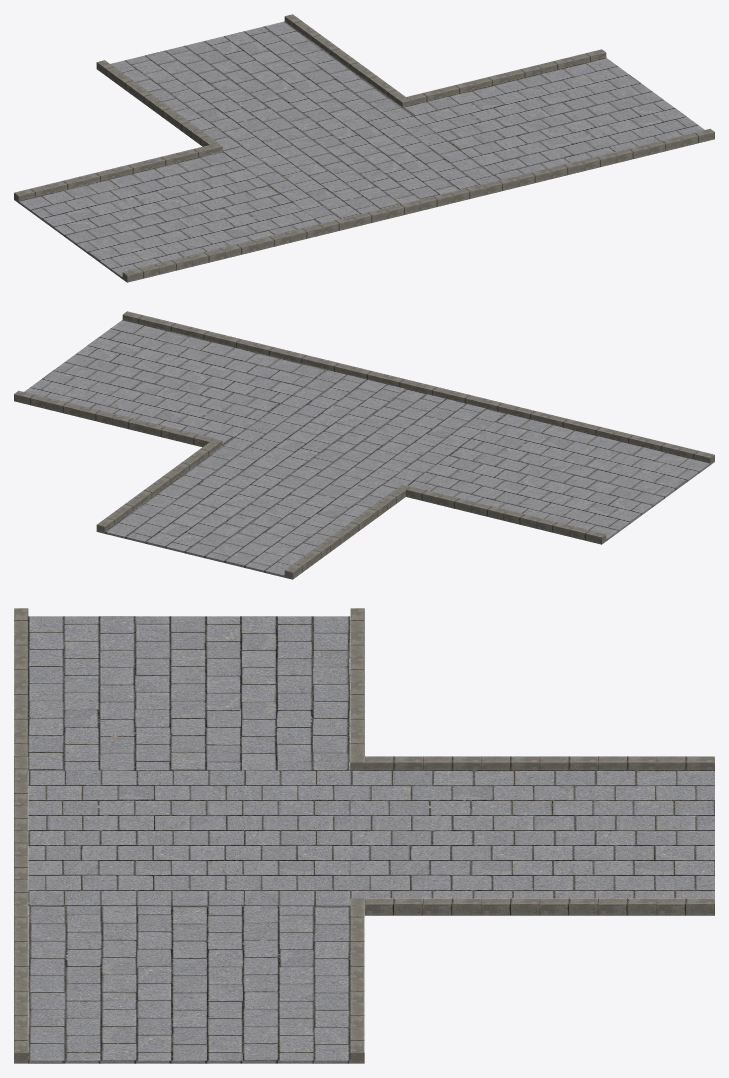
File: street junction_T.FBX
3 views of the same model, one above another, from view 1: azimuth 30°, elevation 25°; view 2: azimuth 150°, elevation 25°; view 3: azimuth 270°, elevation 25° (orthographic). The views are drawn at different scales.
Visible parts, largest first — view 1: street junction_T; view 2: street junction_T; view 3: street junction_T.
Part boxes in pixels (bbox=[...]): street junction_T: bbox=[14, 14, 714, 282]; street junction_T: bbox=[14, 311, 714, 579]; street junction_T: bbox=[14, 608, 714, 1063].
Size of the model in its own units: 120 by 1.4 by 80.
